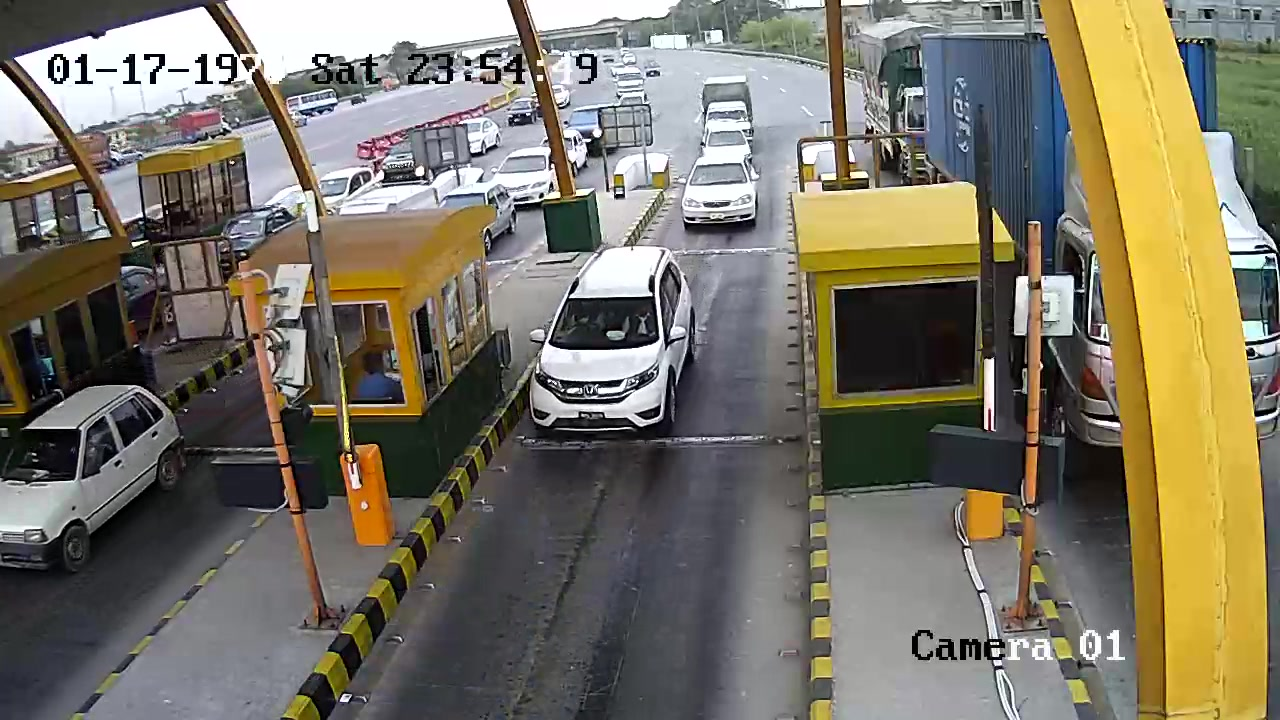F1: (526, 248, 718, 436)
